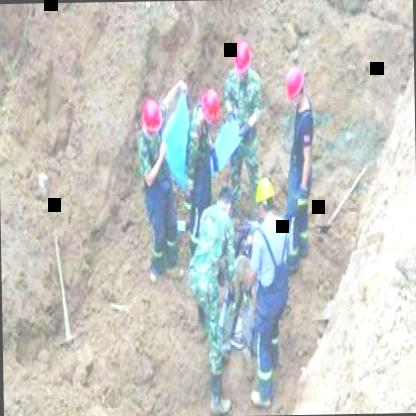head: (214, 182, 240, 222)
helmet: (138, 94, 162, 148), (198, 87, 223, 131), (233, 37, 254, 85), (286, 64, 306, 112), (253, 175, 275, 217)
